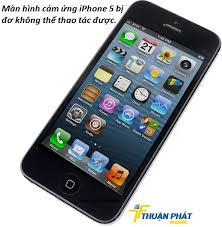iphone: (17, 1, 222, 223)
iphone5: (17, 1, 222, 223)
